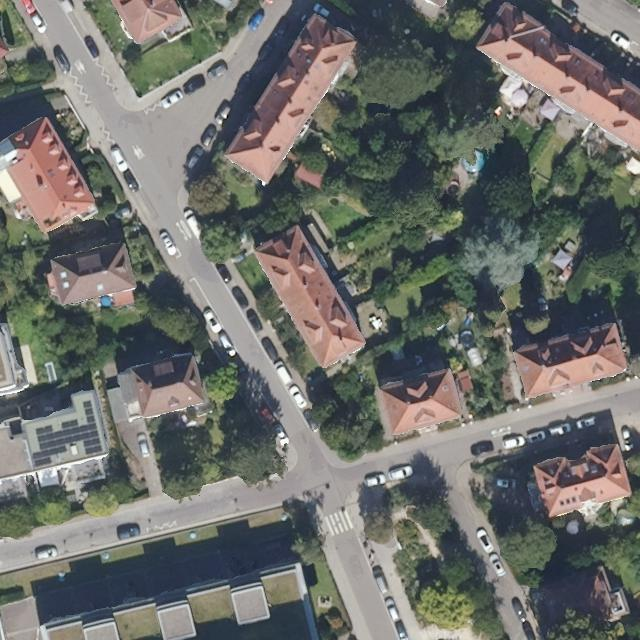PV: (31, 398, 104, 469)
